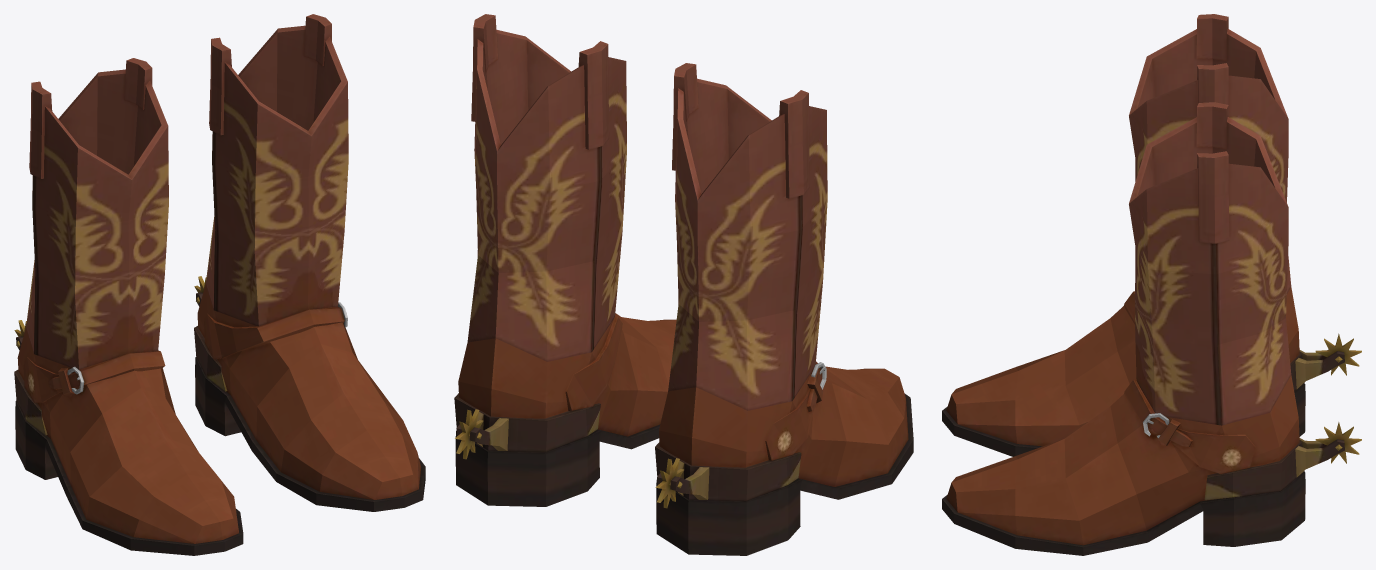
File: 9Qf1MHGePvS.glb
3 renders of one model, left to right at view 1: azimuth 30°, elevation 25°; view 2: azimuth 150°, elevation 25°; view 3: azimuth 270°, elevation 25°, orthographic. The views are drawn at different scales.
Visible parts, largest first — view 1: CowboyBoots_Mesh; view 2: CowboyBoots_Mesh; view 3: CowboyBoots_Mesh.
Boxes of the visible parts, <box> form: CowboyBoots_Mesh: <box>14,14,425,555</box>; CowboyBoots_Mesh: <box>454,14,913,555</box>; CowboyBoots_Mesh: <box>942,14,1361,555</box>.
Size of the model in its own units: 0.873 by 1 by 0.9747.
1 material, 1 textured.
